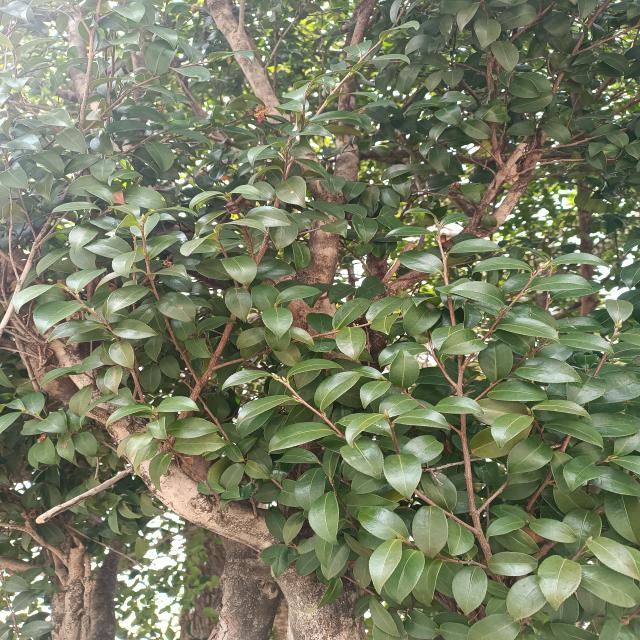Branch: (44, 333, 362, 640), (342, 119, 546, 324), (207, 0, 328, 201), (332, 0, 375, 198), (290, 178, 349, 308)
Twig: (160, 145, 287, 451), (281, 379, 478, 535), (439, 236, 504, 585), (0, 187, 69, 336), (541, 0, 612, 120), (463, 268, 542, 367), (465, 336, 552, 410), (35, 465, 139, 523), (541, 99, 640, 158), (464, 143, 526, 228), (520, 128, 625, 155), (506, 159, 615, 181), (484, 48, 502, 168), (429, 331, 458, 387)
